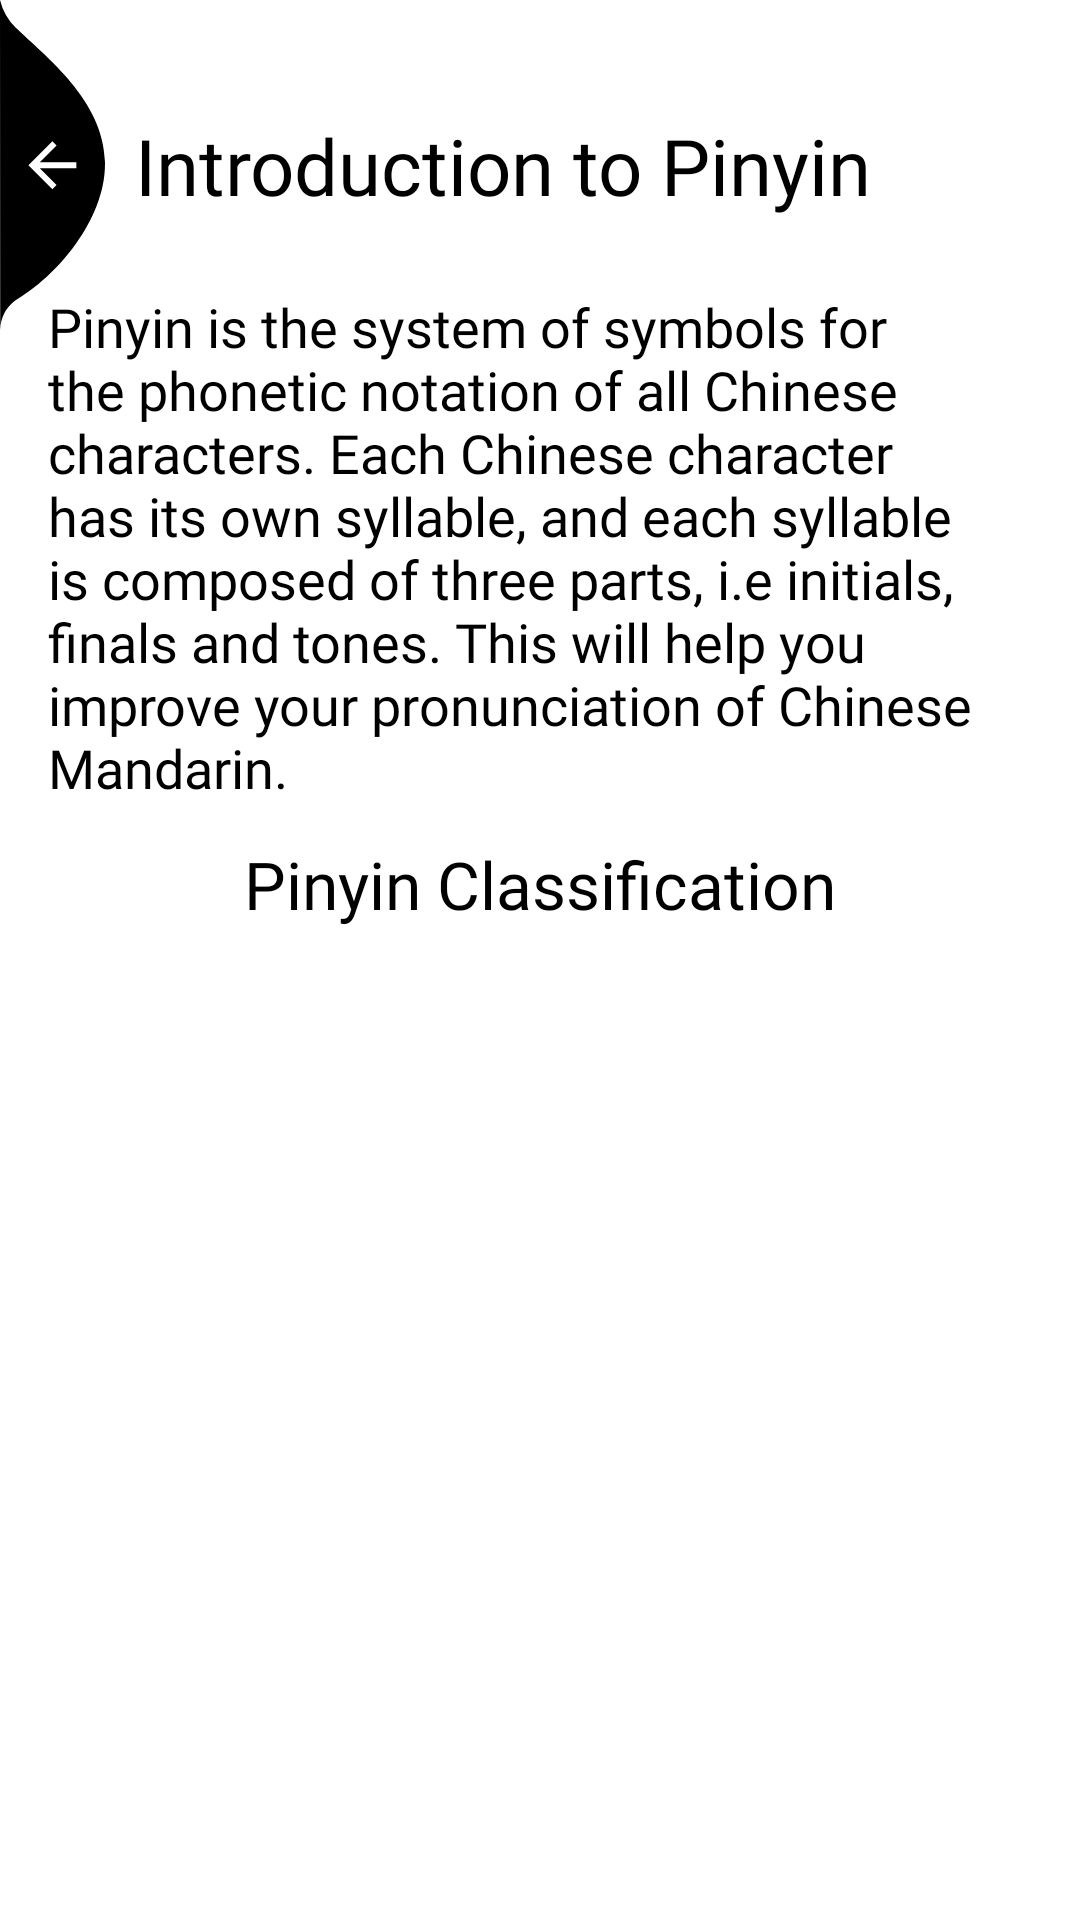

Screen size 1080*1920. Icon name, then its center in pixels as point (x, y):
back: point (52, 164)
